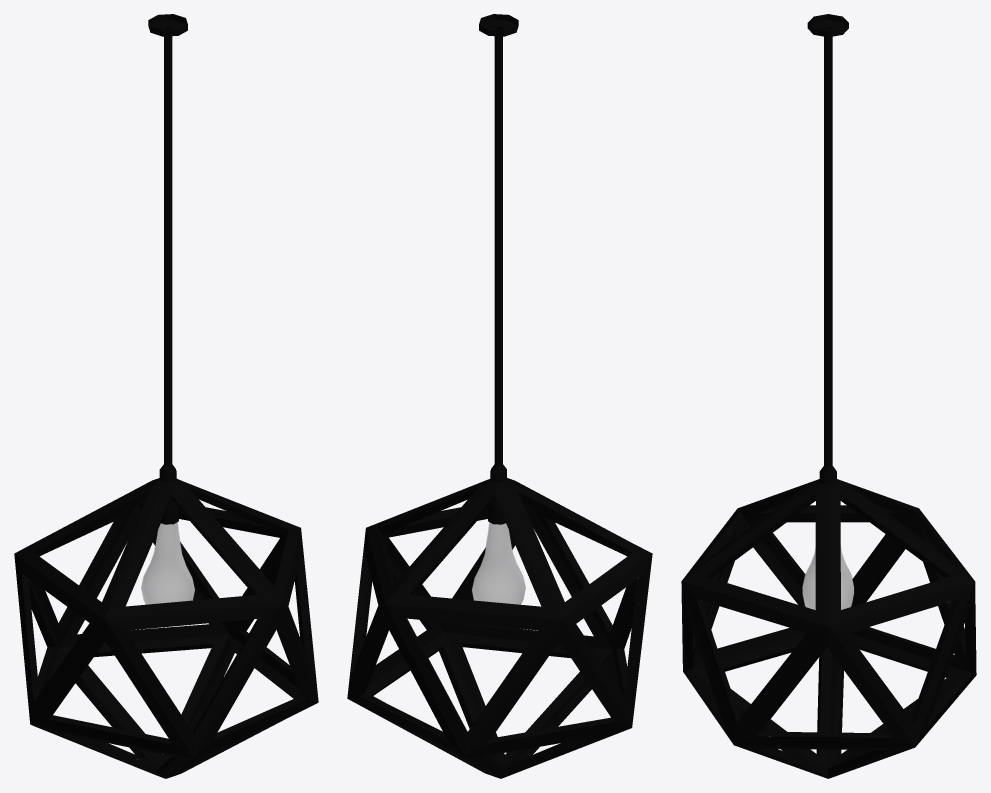
Rendered from Lamp_1.gltf.
3 renders of one model, left to right at view 1: azimuth 30°, elevation 25°; view 2: azimuth 150°, elevation 25°; view 3: azimuth 270°, elevation 25°, orthographic.
Visible parts, largest first — view 1: Lamp_1; view 2: Lamp_1; view 3: Lamp_1.
Boxes of the visible parts, bbox=[...] form: Lamp_1: bbox=[14, 14, 318, 778]; Lamp_1: bbox=[347, 14, 652, 778]; Lamp_1: bbox=[681, 14, 976, 778].
Bounding box in the file's own units: 0.2287 × 0.6152 × 0.2172.
1 material, 1 textured.
